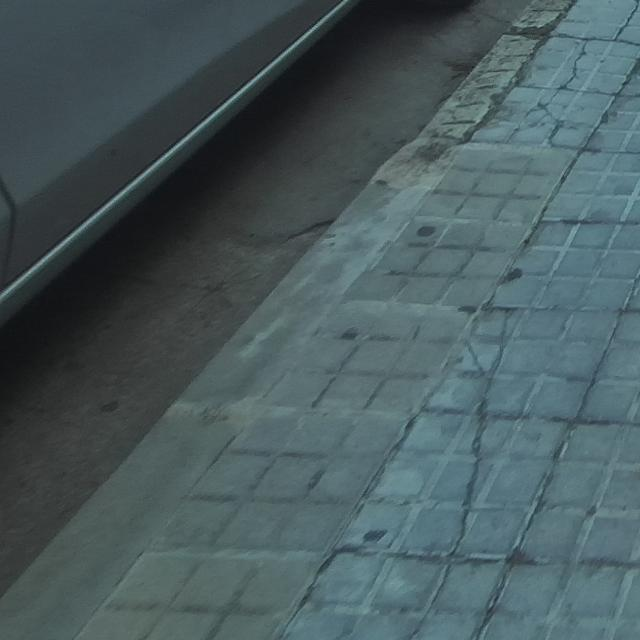calcada_quebrada: (449, 414, 492, 555), (458, 310, 512, 412), (405, 559, 457, 640), (549, 38, 588, 97), (521, 99, 565, 148), (614, 0, 640, 40)
